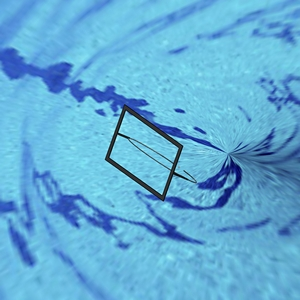circle: (102, 100, 198, 200)
